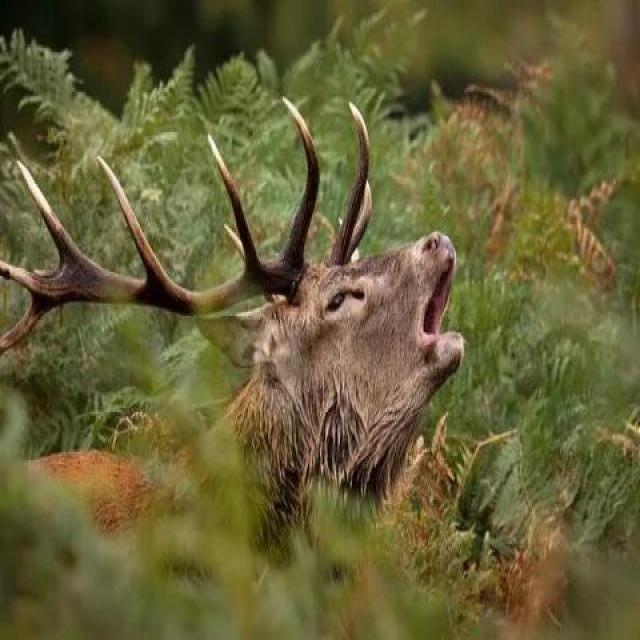deer: (6, 96, 504, 599)
